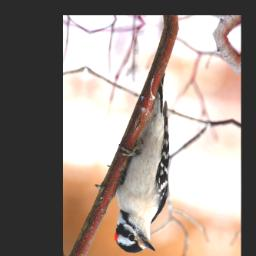Woodpecker: (107, 66, 180, 256)
